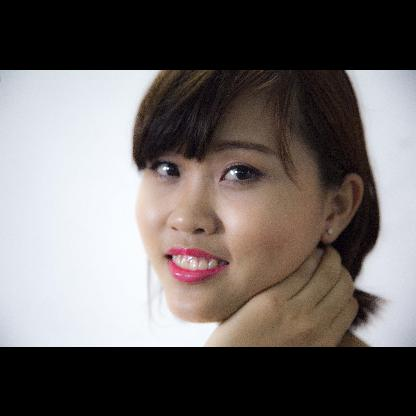Female: (138, 86, 362, 322)
